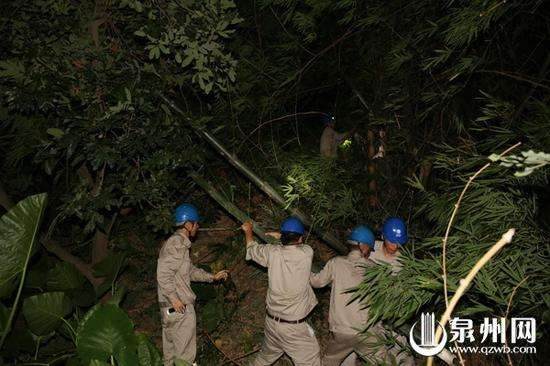blue: (379, 216, 407, 252), (347, 225, 375, 259), (173, 202, 200, 237), (278, 217, 305, 246)
